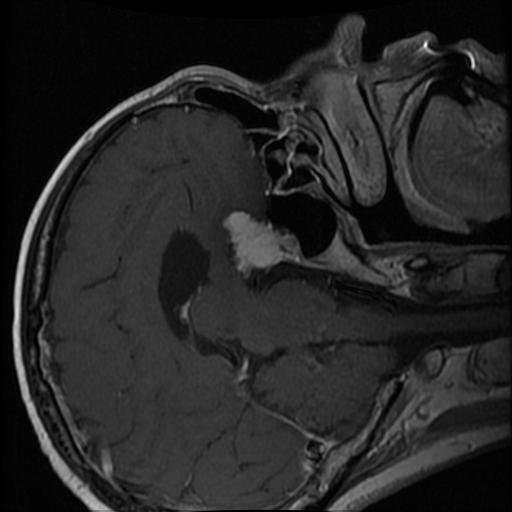meningioma: (224, 210, 300, 276)
